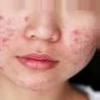Acne: (73, 33, 91, 58), (3, 21, 18, 42)
